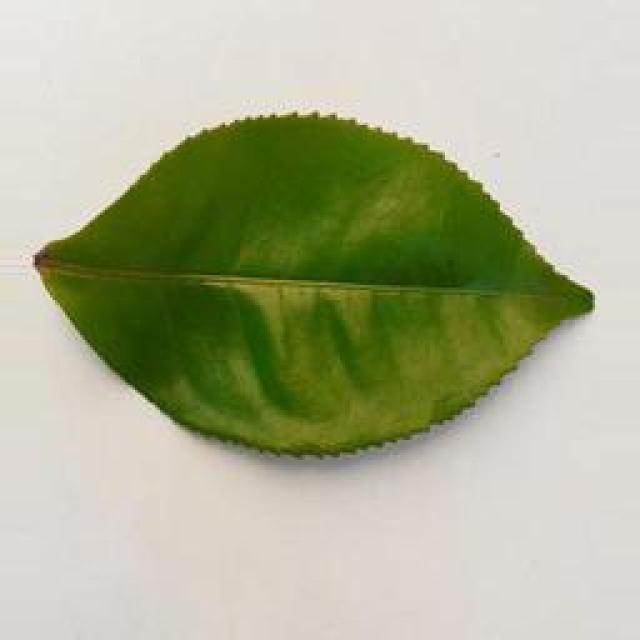Healthy: (18, 101, 617, 465)
